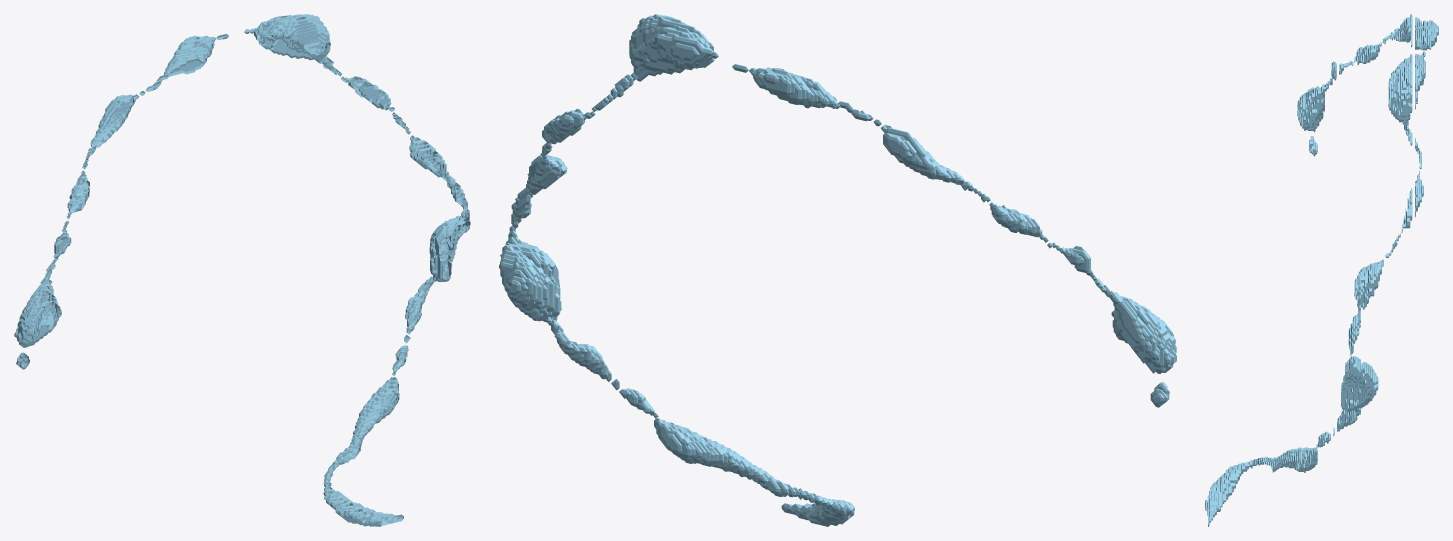
File: SVV_AWCR.gltf
3 views of the same model, side by side, from view 1: azimuth 30°, elevation 25°; view 2: azimuth 150°, elevation 25°; view 3: azimuth 270°, elevation 25° (orthographic). The views are drawn at different scales.
Visible parts, largest first — view 1: AWCR; view 2: AWCR; view 3: AWCR.
Part boxes in pixels (left/top/right/bottom): AWCR: left=14, top=14, right=470, bottom=526; AWCR: left=499, top=14, right=1176, bottom=526; AWCR: left=1205, top=14, right=1438, bottom=526.
Bounding box in the file's own units: 115773 × 102425 × 47395.
